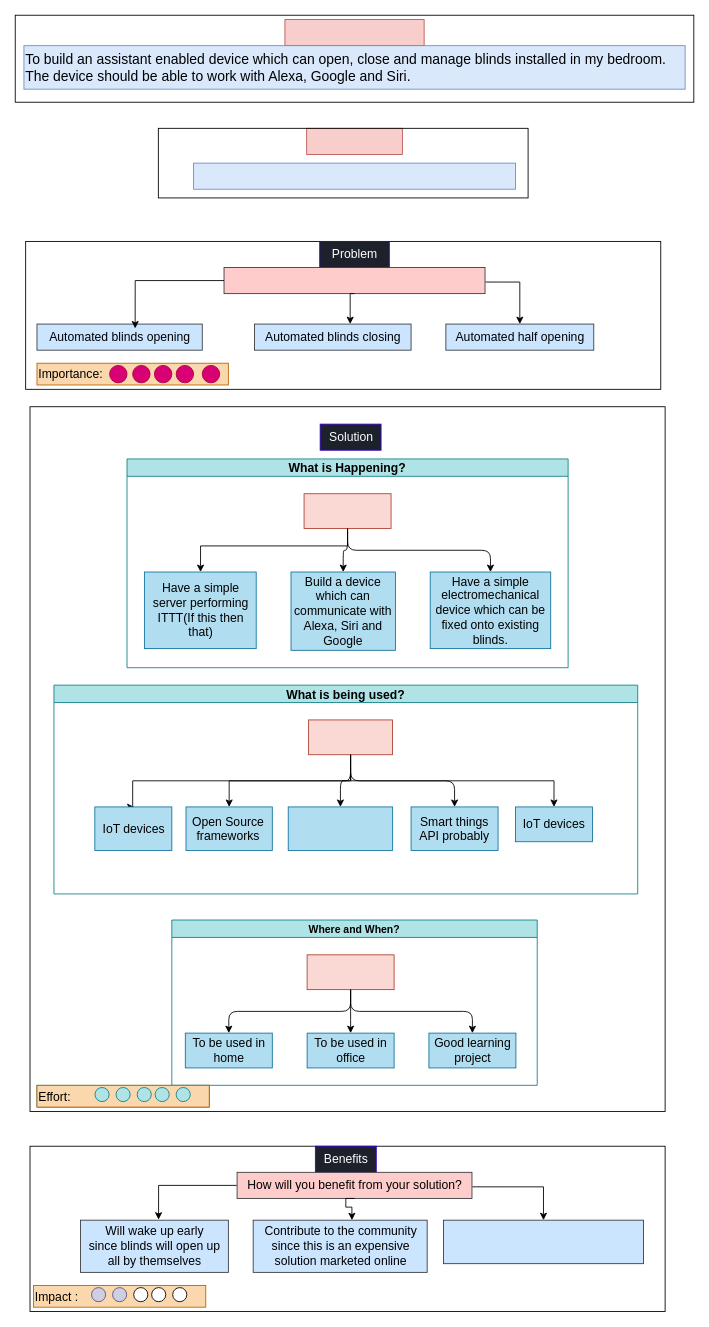
Image size: 709x1327. Some labels were removed from this diagram. Each missing label, with the centre of its shape:
Alexa! Open Blinds!: (354,32)
Get back to my interests of working on mechatronics projects: (543,1241)
How?: (350,737)
People like me who don't like opening and closing blinds: (354,175)
Target Group: (354,140)
What: (347,511)
What is the context?: (350,972)
Which major user pains are being adressed?: (354,280)
Zigbee protocol maybe: (340,828)
